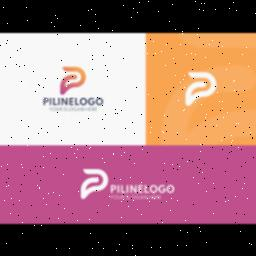p: (44, 94, 48, 110)
